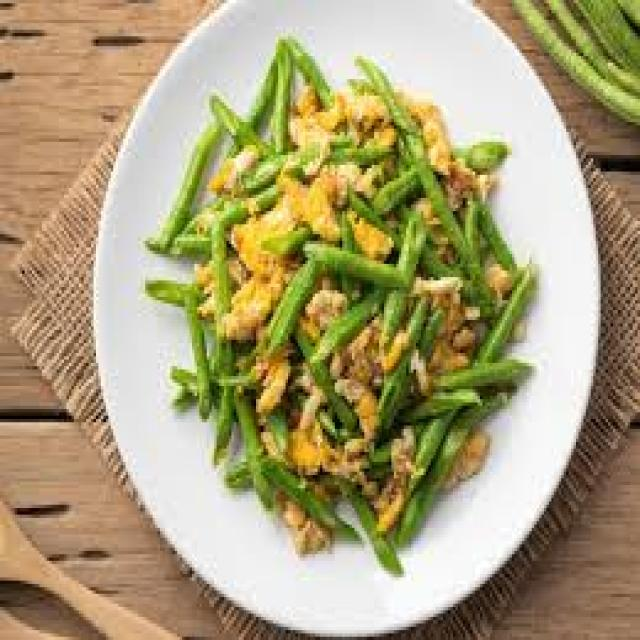kacang_panjang: (162, 33, 526, 561)
tahu: (289, 157, 362, 248), (238, 195, 305, 279), (220, 271, 295, 343)
